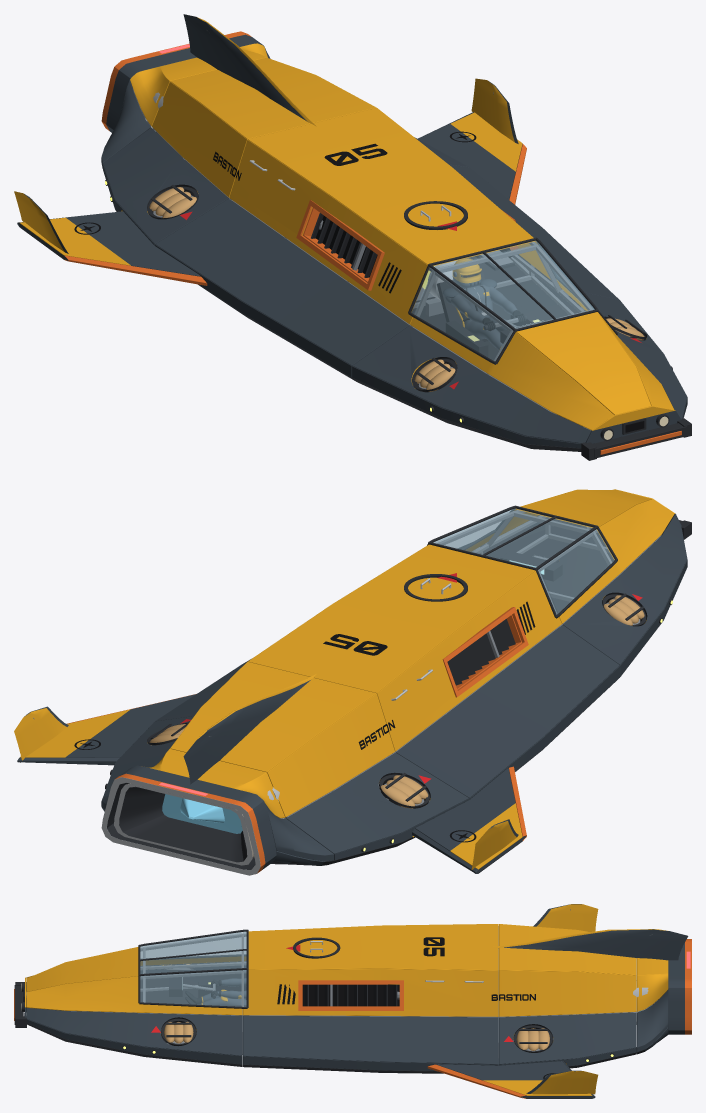
The model's file is bastion.fbx.
3 renders of one model, top to bottom at view 1: azimuth 30°, elevation 25°; view 2: azimuth 150°, elevation 25°; view 3: azimuth 270°, elevation 25°, orthographic. The views are drawn at different scales.
Visible parts, largest first — view 1: Mid_Top, Mid_Wing_L, Front_Top, Front_Flank_L, Mid_Flank_L, Front_Wing_L, Rear_Top, Rear_Wing_L, Rear_Flank_L, Wing_Top_L, Wing_Top_R, Radiators (+24 smaller); view 2: Mid_Top, Mid_Wing_L, Rear_Top, Mid_Flank_L, Rear_Wing_L, Front_Top, Engine, Rear_Flank_L, Front_Flank_L, Front_Wing_L, Engine_Collar, Wing_Top_L (+22 smaller); view 3: Mid_Wing_R, Mid_Top, Mid_Flank_R, Front_Flank_R, Rear_Flank_R, Front_Wing_R, Front_Top, Rear_Wing_R, Rear_Top, Shark_Fin, Radiators, Wing_Top_R (+23 smaller).
Boxes of the visible parts, x1,y1,x2,y2 form: Mid_Top: (248, 108, 537, 267); Mid_Wing_L: (155, 198, 408, 365); Front_Top: (436, 243, 651, 414); Front_Flank_L: (410, 270, 613, 430); Mid_Flank_L: (229, 140, 432, 324); Front_Wing_L: (352, 325, 590, 443); Rear_Top: (170, 58, 376, 139); Rear_Wing_L: (103, 127, 228, 243); Rear_Flank_L: (152, 81, 247, 197); Wing_Top_L: (20, 211, 200, 276); Wing_Top_R: (418, 112, 522, 199); Radiators: (296, 200, 518, 290); Mid_Top: (248, 542, 535, 693); Mid_Wing_L: (396, 625, 619, 797); Rear_Top: (170, 662, 376, 772); Mid_Flank_L: (377, 569, 561, 751); Rear_Wing_L: (286, 752, 468, 854); Front_Top: (434, 489, 651, 567); Engine: (114, 783, 284, 865); Rear_Flank_L: (267, 693, 394, 817); Front_Flank_L: (539, 499, 674, 623); Front_Wing_L: (563, 515, 686, 664); Engine_Collar: (101, 765, 276, 875); Wing_Top_L: (415, 768, 522, 869); Mid_Wing_R: (243, 1015, 498, 1064); Mid_Top: (243, 924, 498, 970); Mid_Flank_R: (243, 969, 498, 1016); Front_Flank_R: (26, 970, 242, 1015); Rear_Flank_R: (499, 970, 636, 1016); Front_Wing_R: (26, 1008, 242, 1055); Front_Top: (26, 932, 242, 991); Rear_Wing_R: (499, 1012, 636, 1064); Rear_Top: (499, 924, 636, 975); Shark_Fin: (493, 929, 688, 960); Radiators: (298, 980, 403, 1010); Wing_Top_R: (436, 1058, 592, 1095).
Bounding box in the file's own units: 402 × 106 × 688.
